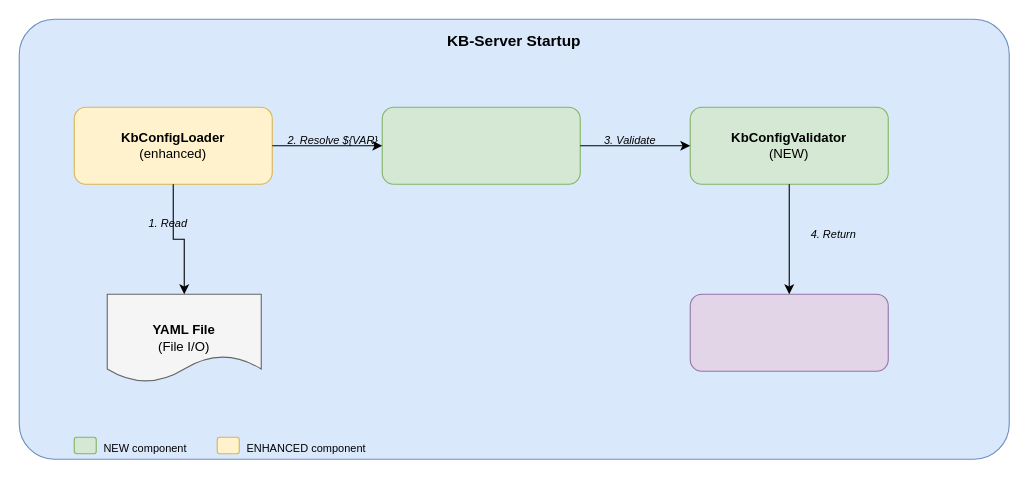
The diagram is 1029 pixels wide and 481 high, and some of its shapes have lost their labels. The centre of each missing label's shape, as x and y in pixels:
KbConfig (validated): point 788,332
KbEnvVarResolver (NEW): point 480,145
